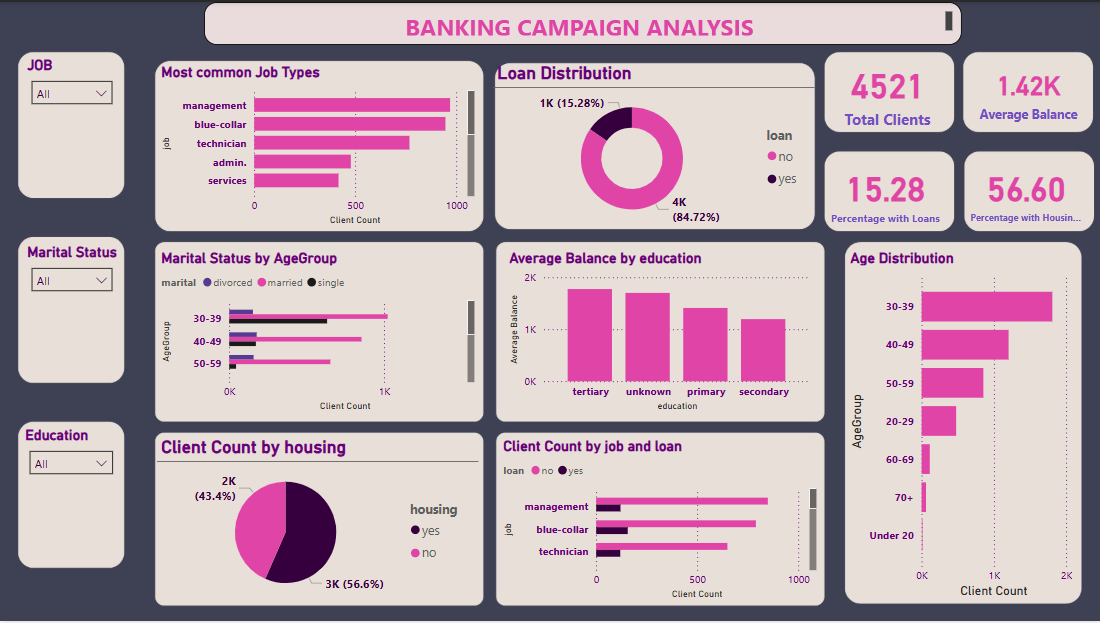

The page's visual inventory and layout, read from the dashboard file:
{"tool":"powerbi","page":{"name":"Demography","canvas":[1280,720],"ordinal":0},"visuals":[{"type":"card","fields":{"Values":["Banking_Campaign.Total Clients"]},"box":[965.2,60.4,133.6,90.6],"z":0},{"type":"card","fields":{"Values":["Banking_Campaign.Average Balance"]},"box":[1129,60.4,133.6,90.6],"z":1000},{"type":"card","fields":{"Values":["Banking_Campaign.Percentage with Loans"]},"box":[960.6,171.9,138.2,99.9],"z":2000},{"type":"card","fields":{"Values":["Banking_Campaign.Percentage with Housing Loan"]},"box":[1123.2,178.9,139.4,84.8],"z":3000},{"type":"clusteredBarChart","title":"Age Distribution","fields":{"Category":["Banking_Campaign.AgeGroup"],"Y":["Banking_Campaign.Client Count"]},"box":[983.8,286.9,268.3,411.2],"z":4000},{"type":"barChart","title":"Most common Job Types","fields":{"Category":["Banking_Campaign.job"],"Y":["Banking_Campaign.Client Count"]},"box":[182.4,70.9,374,192.8],"z":5000},{"type":"clusteredBarChart","title":"Marital Status by AgeGroup ","fields":{"Category":["Banking_Campaign.AgeGroup"],"Y":["Banking_Campaign.Client Count"],"Series":["Banking_Campaign.marital"]},"box":[182.4,286.9,374,192.8],"z":6000},{"type":"donutChart","title":"Loan Distribution","fields":{"Category":["Banking_Campaign.loan"],"Y":["Banking_Campaign.Client Count"]},"box":[572.6,70.9,374,192.8],"z":7000},{"type":"pieChart","fields":{"Category":["Banking_Campaign.housing"],"Y":["Banking_Campaign.Client Count"]},"box":[182.4,505.3,374,192.8],"z":8000},{"type":"clusteredColumnChart","fields":{"Category":["Banking_Campaign.education"],"Y":["Banking_Campaign.Average Balance"]},"box":[586.6,286.9,360.1,192.8],"z":9000},{"type":"clusteredBarChart","fields":{"Category":["Banking_Campaign.job"],"Series":["Banking_Campaign.loan"],"Y":["Banking_Campaign.Client Count"]},"box":[579.6,505.3,374,192.8],"z":10000},{"type":"slicer","title":"JOB","fields":{"Values":["Banking_Campaign.job"]},"box":[26.7,62.7,113.8,159.1],"z":11000},{"type":"slicer","title":"Marital Status","fields":{"Values":["Banking_Campaign.marital"]},"box":[26.8,280,114.3,159.9],"z":12000},{"type":"slicer","title":"Education","fields":{"Values":["Banking_Campaign.education"]},"box":[24.5,492.4,116.7,158.7],"z":13000},{"type":"textbox","box":[236.9,0,880.9,50.2],"z":14000}]}

Visuals, with their boxes in screenshot pixels (x1, y1, x2, y2), scaled from the page's 1280x720 canvas onto the 1100x623 screenshot:
card - Banking_Campaign.Total Clients: 829, 52, 944, 131
card - Banking_Campaign.Average Balance: 970, 52, 1085, 131
card - Banking_Campaign.Percentage with Loans: 826, 149, 944, 235
card - Banking_Campaign.Percentage with Housing Loan: 965, 155, 1085, 228
"Age Distribution" clusteredBarChart: 845, 248, 1076, 604
"Most common Job Types" barChart: 157, 61, 478, 228
"Marital Status by AgeGroup " clusteredBarChart: 157, 248, 478, 415
"Loan Distribution" donutChart: 492, 61, 813, 228
pieChart - Banking_Campaign.housing x Banking_Campaign.Client Count: 157, 437, 478, 604
clusteredColumnChart - Banking_Campaign.education x Banking_Campaign.Average Balance: 504, 248, 814, 415
clusteredBarChart - Banking_Campaign.job x Banking_Campaign.loan: 498, 437, 820, 604
"JOB" slicer: 23, 54, 121, 192
"Marital Status" slicer: 23, 242, 121, 381
"Education" slicer: 21, 426, 121, 563
textbox: 204, 0, 961, 43
